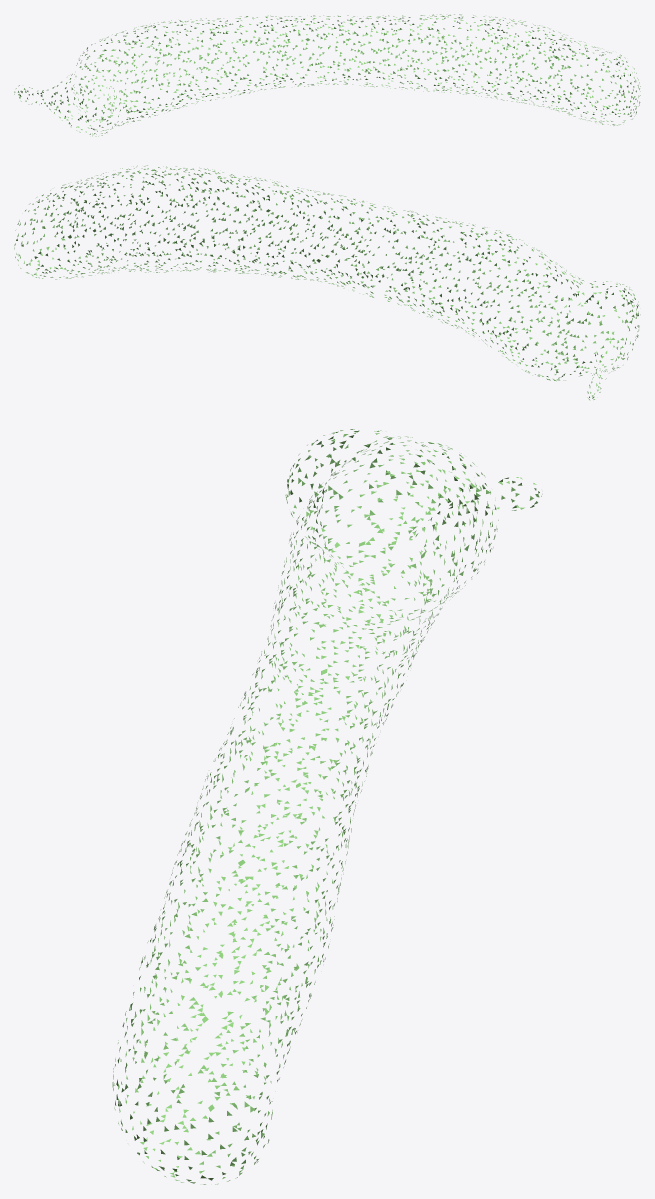
Rendered from morph_015.glb.
The picture shows the model from 3 angles, top to bottom: view 1: azimuth 30°, elevation 25°; view 2: azimuth 150°, elevation 25°; view 3: azimuth 270°, elevation 25°; orthographic projection. The views are drawn at different scales.
Size of the model in its own units: 148 by 42.18 by 51.33.
